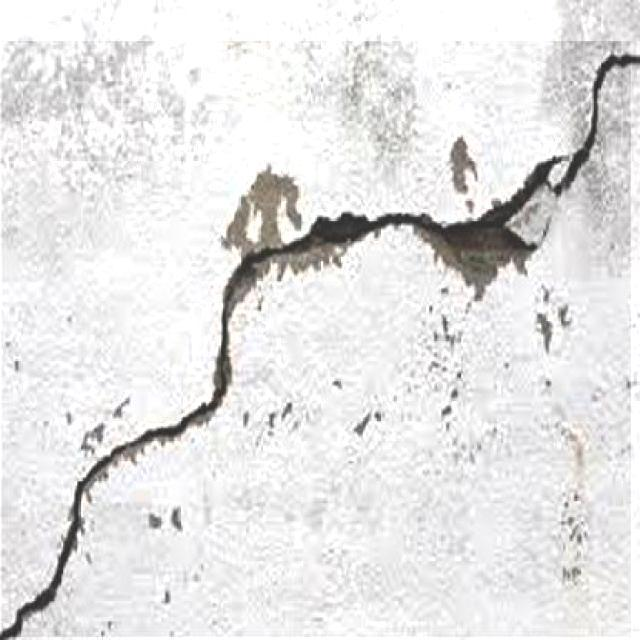crack: (0, 48, 640, 624)
